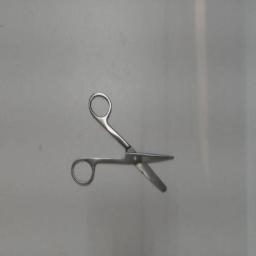Dressing Scissors: (66, 86, 186, 202)
